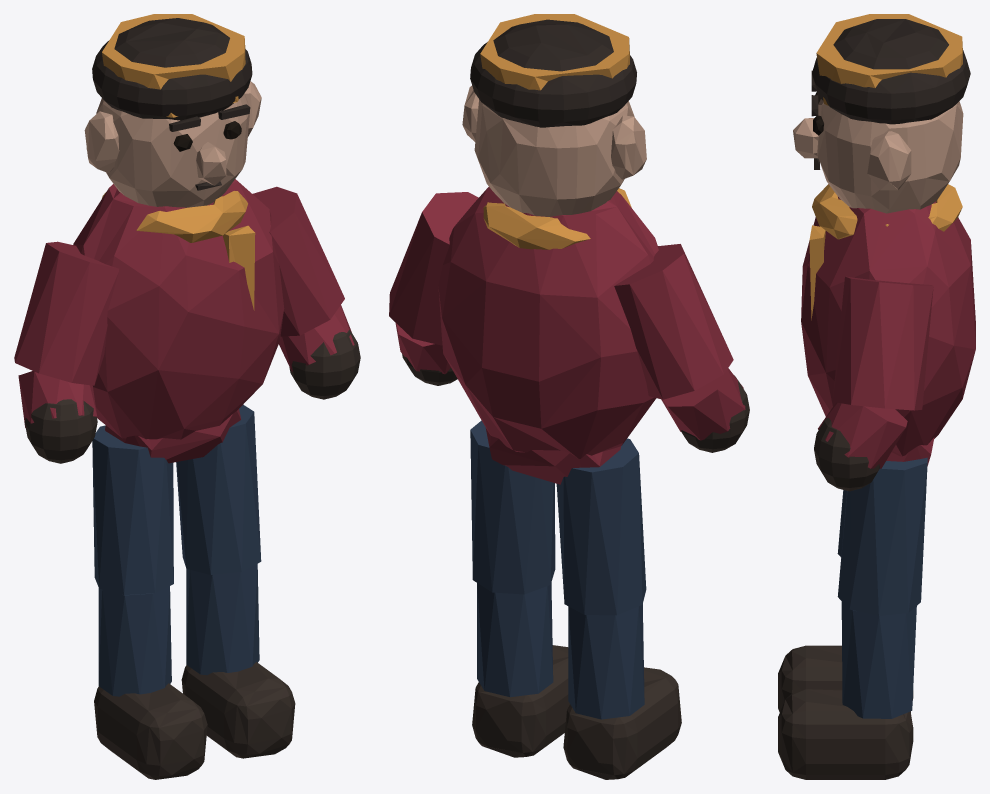
Rendered from hf-woman-winter.glb.
The picture shows the model from 3 angles, left to right: view 1: azimuth 30°, elevation 25°; view 2: azimuth 150°, elevation 25°; view 3: azimuth 270°, elevation 25°; orthographic projection. The views are drawn at different scales.
Parts seen in each view (by area): view 1: NPC_WOMAN_WINTER_PARKA, NPC_WOMAN_WINTER_LOWER_LEG, NPC_WOMAN_WINTER_LOWER_LEG.001, NPC_WOMAN_WINTER_SLEEVE_LOWER, NPC_WOMAN_WINTER_EAR, NPC_WOMAN_WINTER_BROW, NPC_WOMAN_WINTER_SLEEVE_LOWER.001, NPC_WOMAN_WINTER_BEANIE, NPC_WOMAN_WINTER_WINTER_BOOT, NPC_WOMAN_WINTER_WINTER_BOOT.001, NPC_WOMAN_WINTER_GLOVE, NPC_WOMAN_WINTER_GLOVE.001; view 2: NPC_WOMAN_WINTER_PARKA, NPC_WOMAN_WINTER_LOWER_LEG, NPC_WOMAN_WINTER_LOWER_LEG.001, NPC_WOMAN_WINTER_EAR, NPC_WOMAN_WINTER_SLEEVE_LOWER, NPC_WOMAN_WINTER_BROW, NPC_WOMAN_WINTER_SLEEVE_LOWER.001, NPC_WOMAN_WINTER_WINTER_BOOT, NPC_WOMAN_WINTER_BEANIE, NPC_WOMAN_WINTER_WINTER_BOOT.001, NPC_WOMAN_WINTER_GLOVE, NPC_WOMAN_WINTER_GLOVE.001; view 3: NPC_WOMAN_WINTER_PARKA, NPC_WOMAN_WINTER_LOWER_LEG.001, NPC_WOMAN_WINTER_SLEEVE_LOWER.001, NPC_WOMAN_WINTER_EAR, NPC_WOMAN_WINTER_BROW, NPC_WOMAN_WINTER_WINTER_BOOT.001, NPC_WOMAN_WINTER_BEANIE, NPC_WOMAN_WINTER_WINTER_BOOT, NPC_WOMAN_WINTER_GLOVE.001.
Part boxes in pixels (box(x1,y1,x2,y2)): NPC_WOMAN_WINTER_PARKA: box(73, 179, 284, 463); NPC_WOMAN_WINTER_LOWER_LEG: box(92, 425, 173, 696); NPC_WOMAN_WINTER_LOWER_LEG.001: box(176, 404, 261, 675); NPC_WOMAN_WINTER_SLEEVE_LOWER: box(14, 241, 118, 427); NPC_WOMAN_WINTER_EAR: box(84, 81, 261, 207); NPC_WOMAN_WINTER_BROW: box(92, 18, 252, 190); NPC_WOMAN_WINTER_SLEEVE_LOWER.001: box(253, 186, 354, 371); NPC_WOMAN_WINTER_BEANIE: box(102, 14, 255, 310); NPC_WOMAN_WINTER_WINTER_BOOT: box(94, 683, 207, 779); NPC_WOMAN_WINTER_WINTER_BOOT.001: box(181, 662, 295, 758); NPC_WOMAN_WINTER_GLOVE: box(24, 399, 97, 463); NPC_WOMAN_WINTER_GLOVE.001: box(289, 329, 360, 399); NPC_WOMAN_WINTER_PARKA: box(438, 187, 658, 484); NPC_WOMAN_WINTER_LOWER_LEG: box(556, 438, 646, 719); NPC_WOMAN_WINTER_LOWER_LEG.001: box(470, 420, 555, 697); NPC_WOMAN_WINTER_EAR: box(462, 85, 646, 216); NPC_WOMAN_WINTER_SLEEVE_LOWER: box(614, 244, 745, 440); NPC_WOMAN_WINTER_BROW: box(470, 19, 636, 127); NPC_WOMAN_WINTER_SLEEVE_LOWER.001: box(389, 192, 478, 374); NPC_WOMAN_WINTER_WINTER_BOOT: box(563, 667, 681, 779); NPC_WOMAN_WINTER_BEANIE: box(480, 14, 631, 249); NPC_WOMAN_WINTER_WINTER_BOOT.001: box(472, 645, 569, 757); NPC_WOMAN_WINTER_GLOVE: box(681, 375, 749, 452); NPC_WOMAN_WINTER_GLOVE.001: box(402, 354, 457, 385); NPC_WOMAN_WINTER_PARKA: box(801, 197, 975, 466); NPC_WOMAN_WINTER_LOWER_LEG.001: box(837, 457, 927, 718); NPC_WOMAN_WINTER_SLEEVE_LOWER.001: box(818, 276, 933, 468); NPC_WOMAN_WINTER_EAR: box(793, 99, 963, 213); NPC_WOMAN_WINTER_BROW: box(811, 19, 970, 169); NPC_WOMAN_WINTER_WINTER_BOOT.001: box(778, 689, 913, 779); NPC_WOMAN_WINTER_BEANIE: box(809, 14, 962, 320); NPC_WOMAN_WINTER_WINTER_BOOT: box(778, 645, 913, 712); NPC_WOMAN_WINTER_GLOVE.001: box(814, 417, 879, 491).
Size of the model in its own units: 0.9118 by 1.87 by 0.468.
